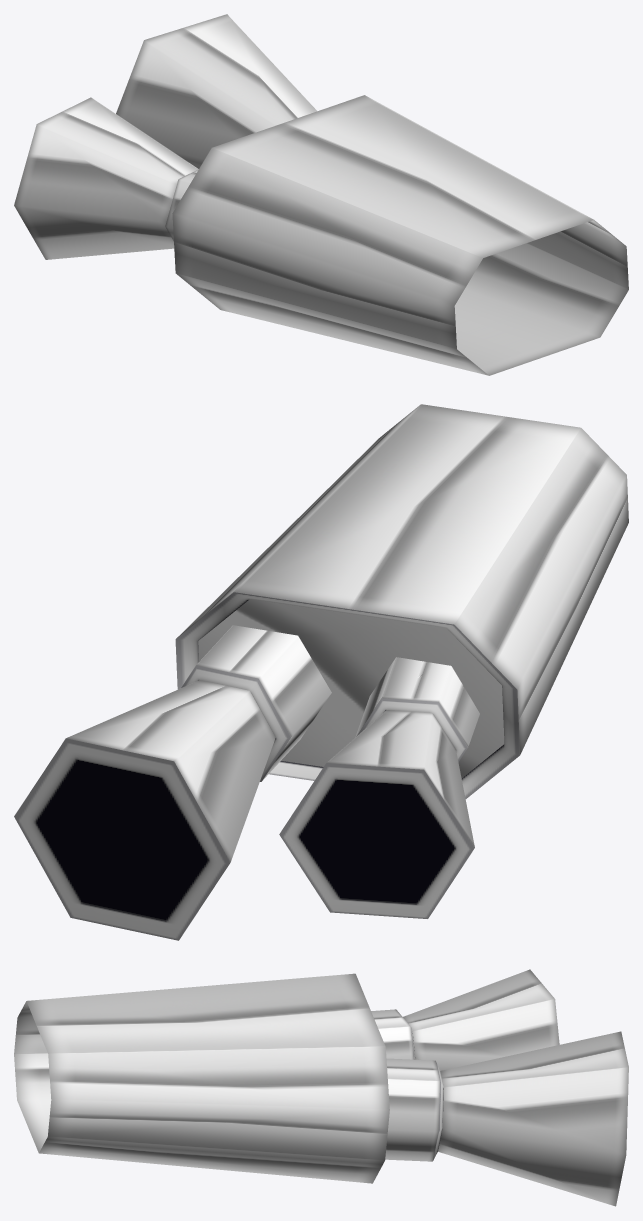
File: boost.FBX
3 renders of one model, top to bottom at view 1: azimuth 30°, elevation 25°; view 2: azimuth 150°, elevation 25°; view 3: azimuth 270°, elevation 25°, orthographic. The views are drawn at different scales.
Parts seen in each view (by area): view 1: Box001; view 2: Box001; view 3: Box001.
Part boxes in pixels (left/top/right/bottom): Box001: left=14, top=14, right=628, bottom=375; Box001: left=14, top=404, right=628, bottom=940; Box001: left=14, top=969, right=628, bottom=1206.
Size of the model in its own units: 48.41 by 25.59 by 85.43.
